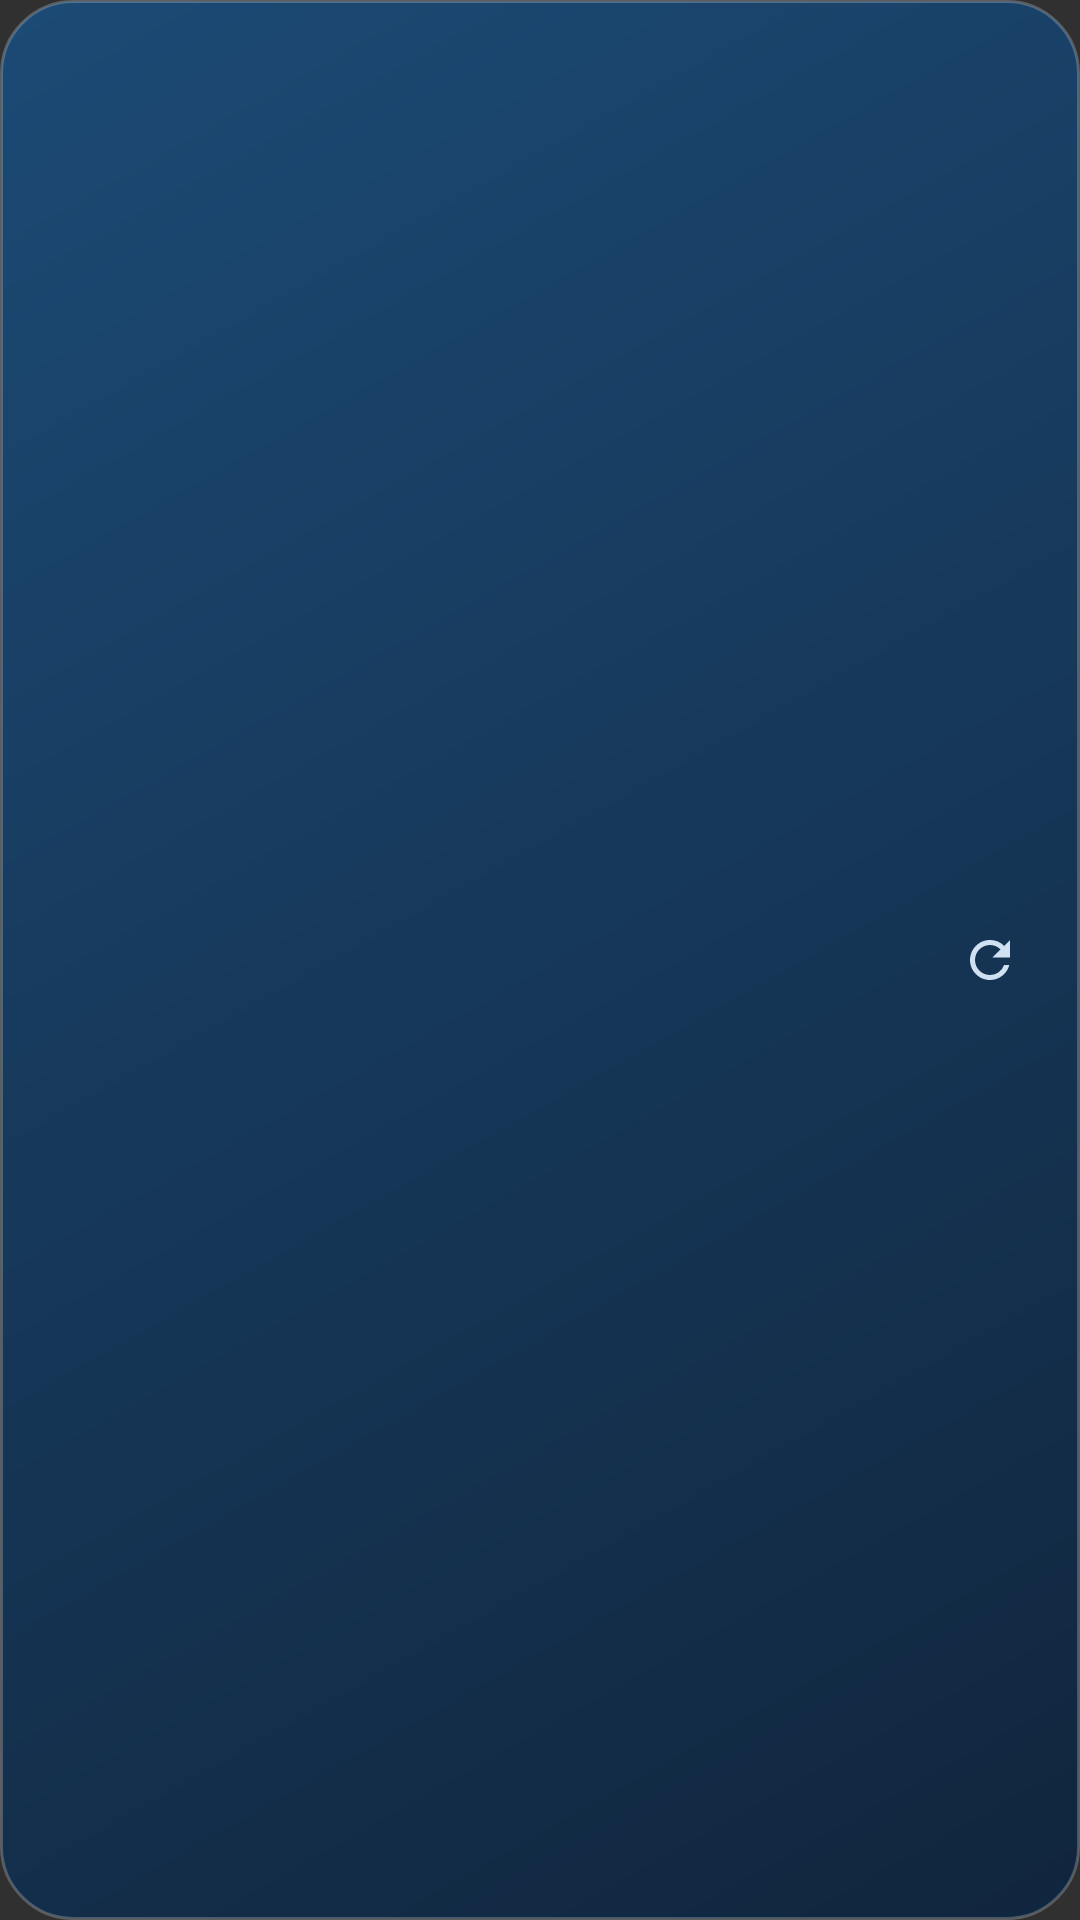

Point at icon controls on the screen. Image size 1080 × 1920, points as point (x, y).
Actualizează: point (990, 960)
